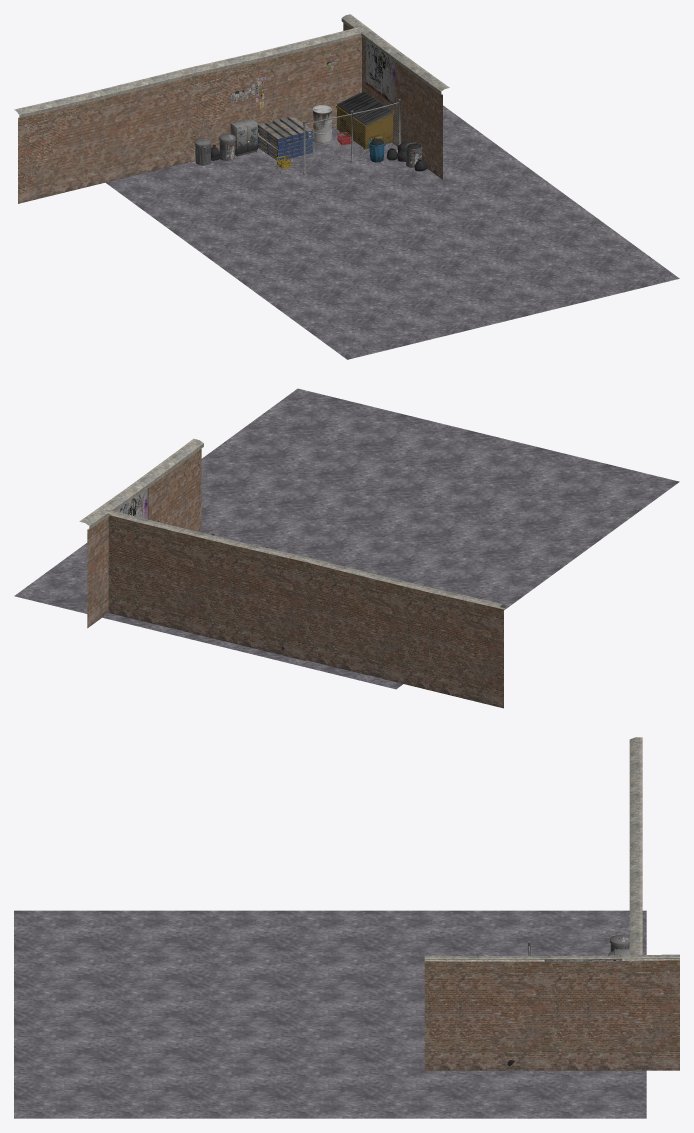
Rendered from alley_game_low.glb.
3 renders of one model, top to bottom at view 1: azimuth 30°, elevation 25°; view 2: azimuth 150°, elevation 25°; view 3: azimuth 270°, elevation 25°, orthographic. The views are drawn at different scales.
Visible parts, largest first — view 1: StreetFloor, sabWall01.001, sabWall01, sabWall01.002, sabDumpster01, sabWireFence01_Mesh, sabiPalletStack, sabBillboard01, sabPowerbox01, sabDrum01, sabWireFence01; view 2: StreetFloor, sabWall01.001, sabWall01, sabWall01.002, sabBillboard01; view 3: StreetFloor, sabWall01.002, sabWall01.001, sabWall01.
Part boxes in pixels (x1,y1,x2,y2): StreetFloor: (106, 105, 679, 359); sabWall01.001: (14, 68, 191, 203); sabWall01: (187, 27, 361, 162); sabWall01.002: (341, 14, 449, 179); sabDumpster01: (336, 91, 394, 149); sabWireFence01_Mesh: (303, 104, 398, 171); sabiPalletStack: (258, 115, 313, 160); sabBillboard01: (365, 40, 396, 106); sabPowerbox01: (230, 118, 257, 156); sabDrum01: (312, 105, 332, 144); sabWireFence01: (303, 99, 400, 174); StreetFloor: (14, 388, 679, 689); sabWall01.001: (301, 557, 505, 708); sabWall01: (103, 509, 306, 660); sabWall01.002: (79, 438, 203, 628); sabBillboard01: (116, 488, 148, 519); StreetFloor: (14, 910, 646, 1118); sabWall01.002: (424, 954, 679, 1070); sabWall01.001: (629, 737, 642, 847); sabWall01: (629, 846, 642, 961).
Bounding box in the file's own units: 17.71 × 3.72 × 18.95.
Materials: 23 (23 with a texture image).
